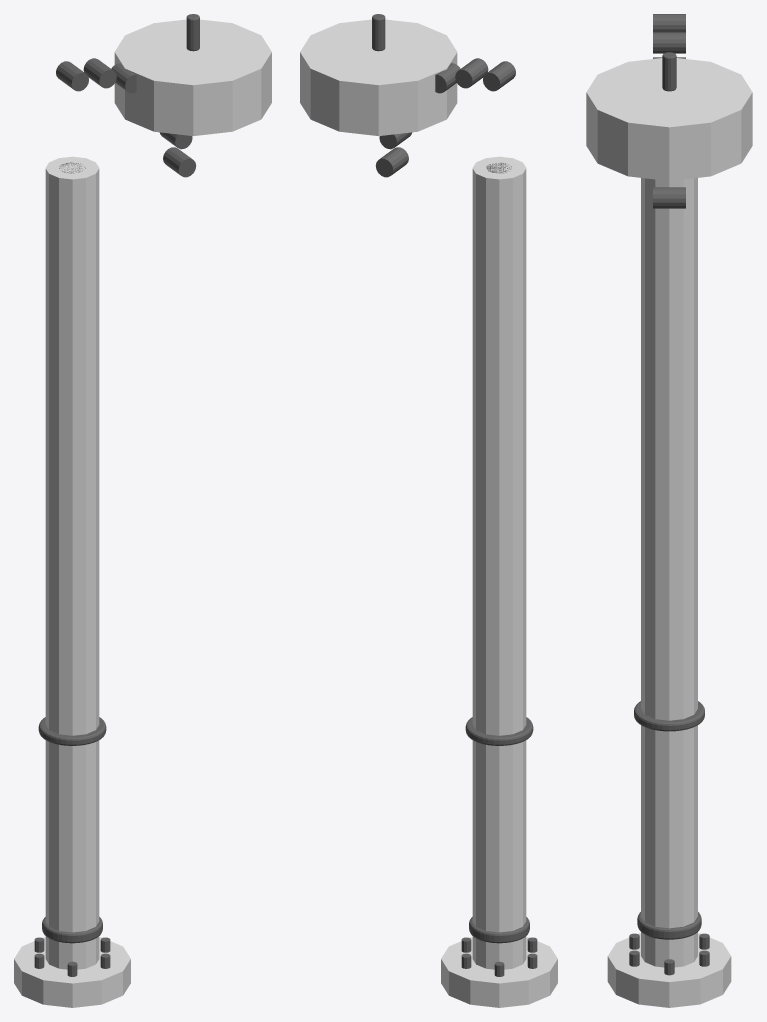
File: SM_Prop_StreetLamp.glb
The picture shows the model from 3 angles, left to right: view 1: azimuth 30°, elevation 25°; view 2: azimuth 150°, elevation 25°; view 3: azimuth 270°, elevation 25°; orthographic projection. The views are drawn at different scales.
Visible parts, largest first — view 1: COL_Prop_StreetLamp_Pole, COL_Prop_StreetLamp_Head, SM_Prop_StreetLamp, COL_Prop_StreetLamp_Base; view 2: COL_Prop_StreetLamp_Pole, COL_Prop_StreetLamp_Head, SM_Prop_StreetLamp, COL_Prop_StreetLamp_Base; view 3: COL_Prop_StreetLamp_Pole, COL_Prop_StreetLamp_Head, COL_Prop_StreetLamp_Base, SM_Prop_StreetLamp.
Boxes of the visible parts, left/top/right/bottom form: COL_Prop_StreetLamp_Pole: left=45, top=156, right=99, bottom=969; COL_Prop_StreetLamp_Head: left=114, top=19, right=271, bottom=136; SM_Prop_StreetLamp: left=34, top=14, right=199, bottom=976; COL_Prop_StreetLamp_Base: left=14, top=937, right=130, bottom=1007; COL_Prop_StreetLamp_Pole: left=472, top=156, right=526, bottom=969; COL_Prop_StreetLamp_Head: left=300, top=19, right=457, bottom=136; SM_Prop_StreetLamp: left=372, top=14, right=537, bottom=976; COL_Prop_StreetLamp_Base: left=441, top=937, right=557, bottom=1007; COL_Prop_StreetLamp_Pole: left=641, top=178, right=697, bottom=967; COL_Prop_StreetLamp_Head: left=586, top=58, right=752, bottom=180; COL_Prop_StreetLamp_Base: left=607, top=933, right=731, bottom=1007; SM_Prop_StreetLamp: left=629, top=14, right=709, bottom=975.
Size of what is drawn, in the model's own units: 1.23 by 4.6 by 0.7.
Materials: 3 (1 with a texture image).
